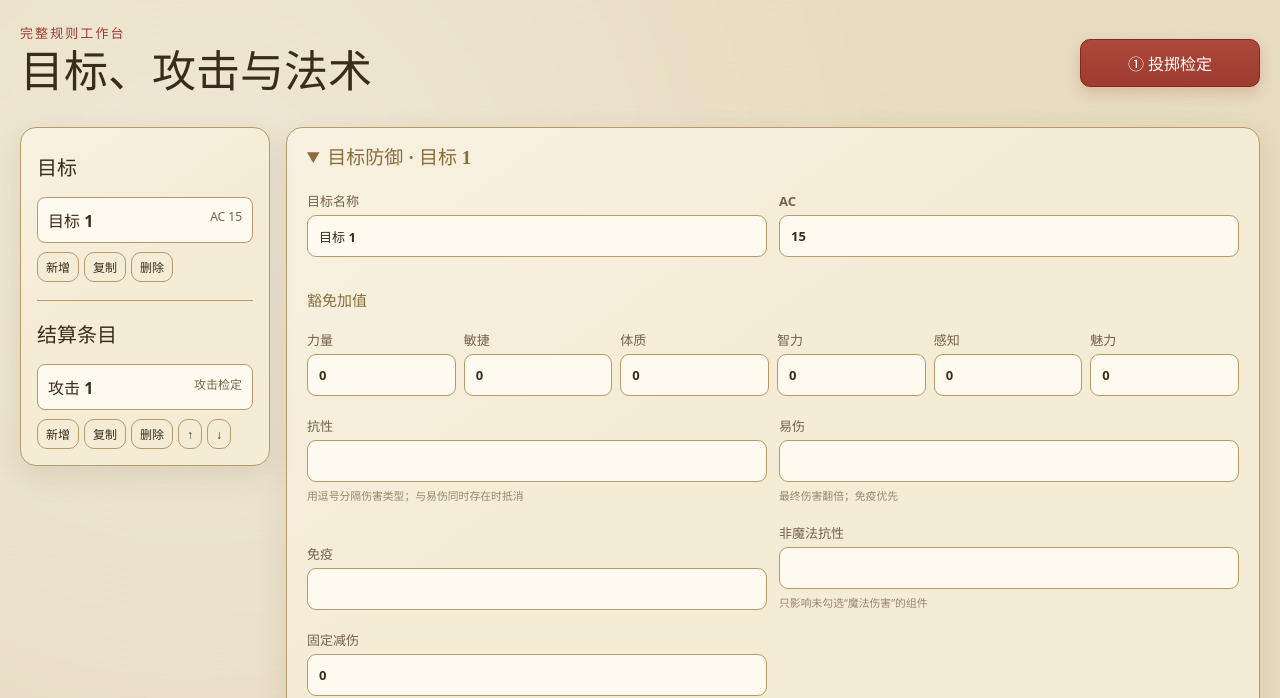
Test: AdvancedWorkspace › resolves selectable attack modifiers before showing damage riders
Click the button "① 投掷检定".
click(1170, 63)  # box left=1080, top=39, right=1260, bottom=87
(page scrolled)
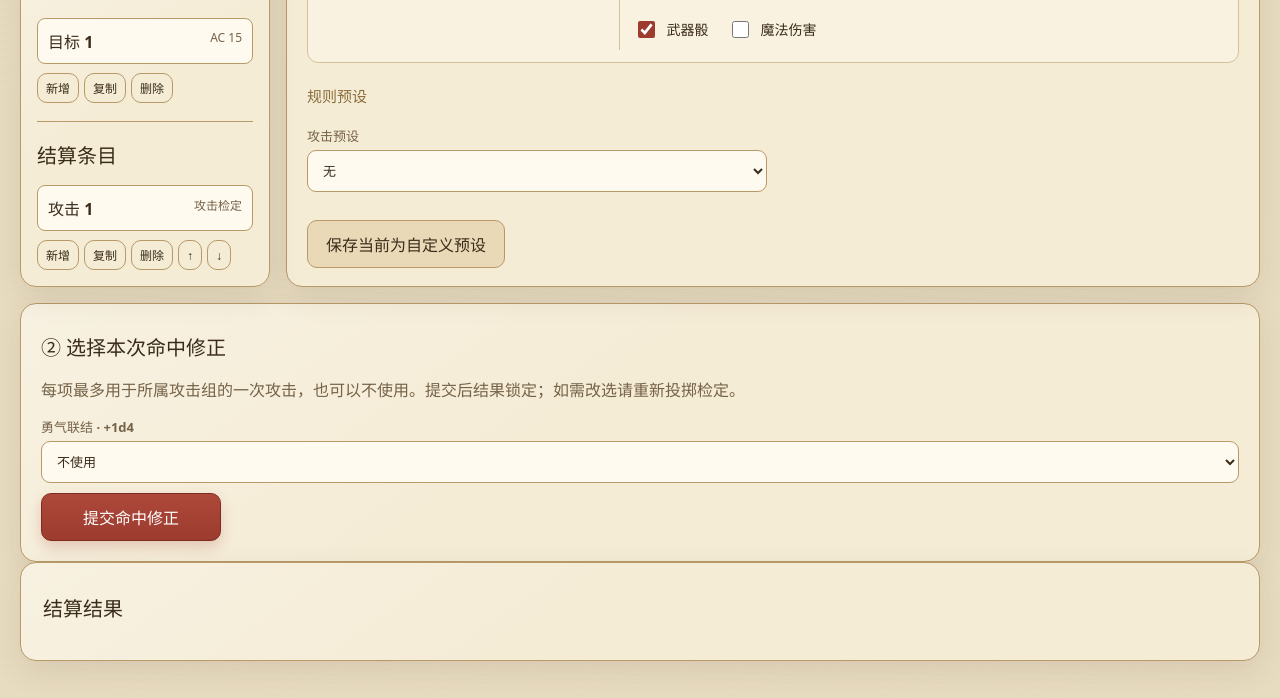
Now the text "勇气联结 · +1d4" is shown, box left=41, top=418, right=134, bottom=436
Select "攻击 · 第 1 次 · 基础总值 12" in the dropdown labelled "勇气联结 · +1d4" at [640, 462], box left=41, top=441, right=1239, bottom=483
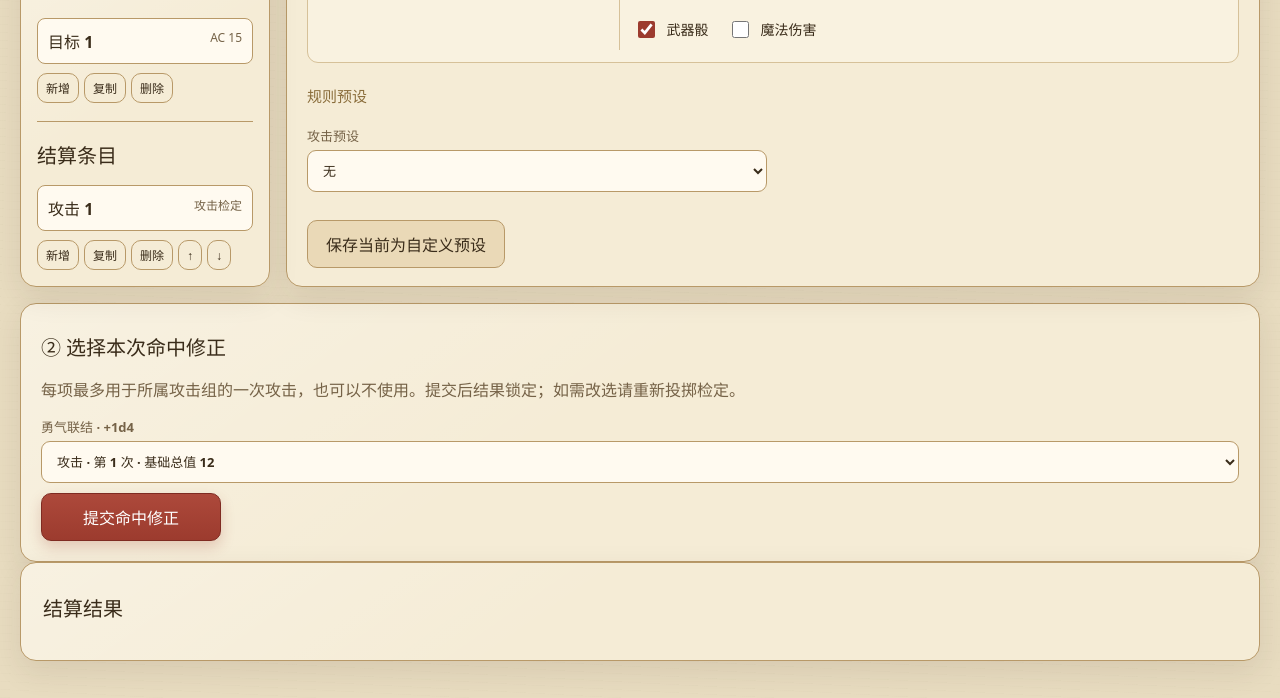
Click the button "提交命中修正".
click(131, 517)  # box left=41, top=493, right=221, bottom=541
(page scrolled)
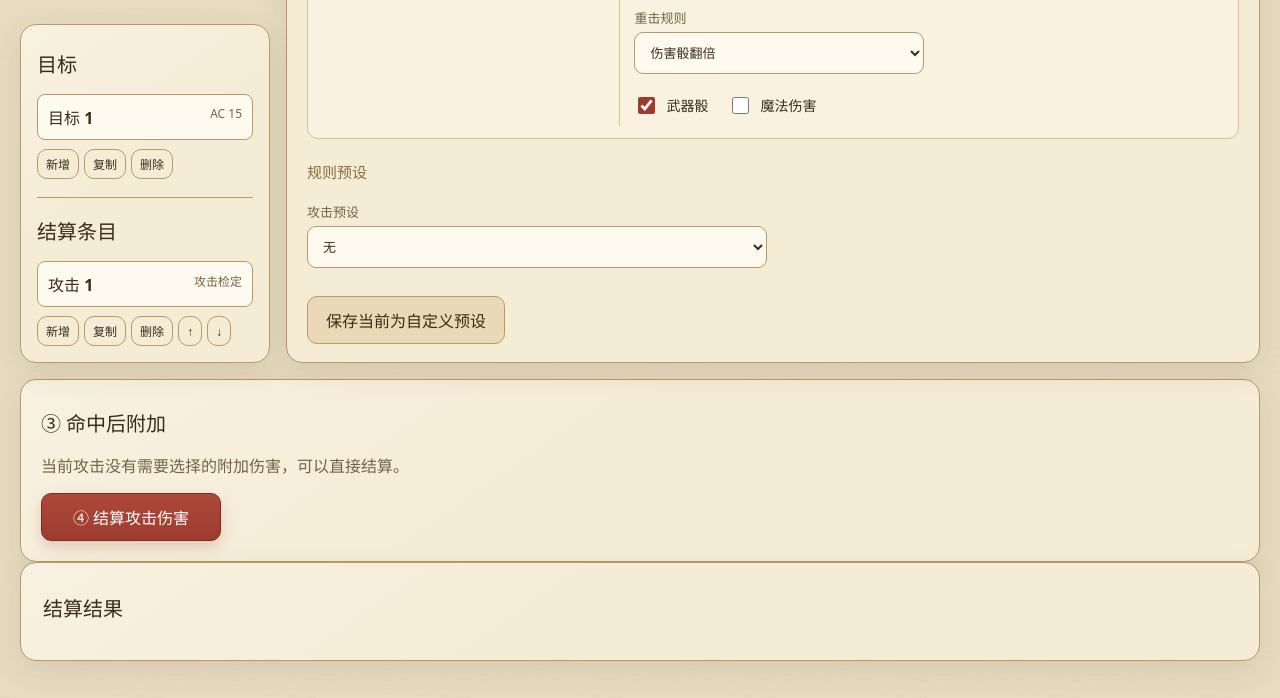
Now the button "④ 结算攻击伤害" is shown, box left=41, top=493, right=221, bottom=541
